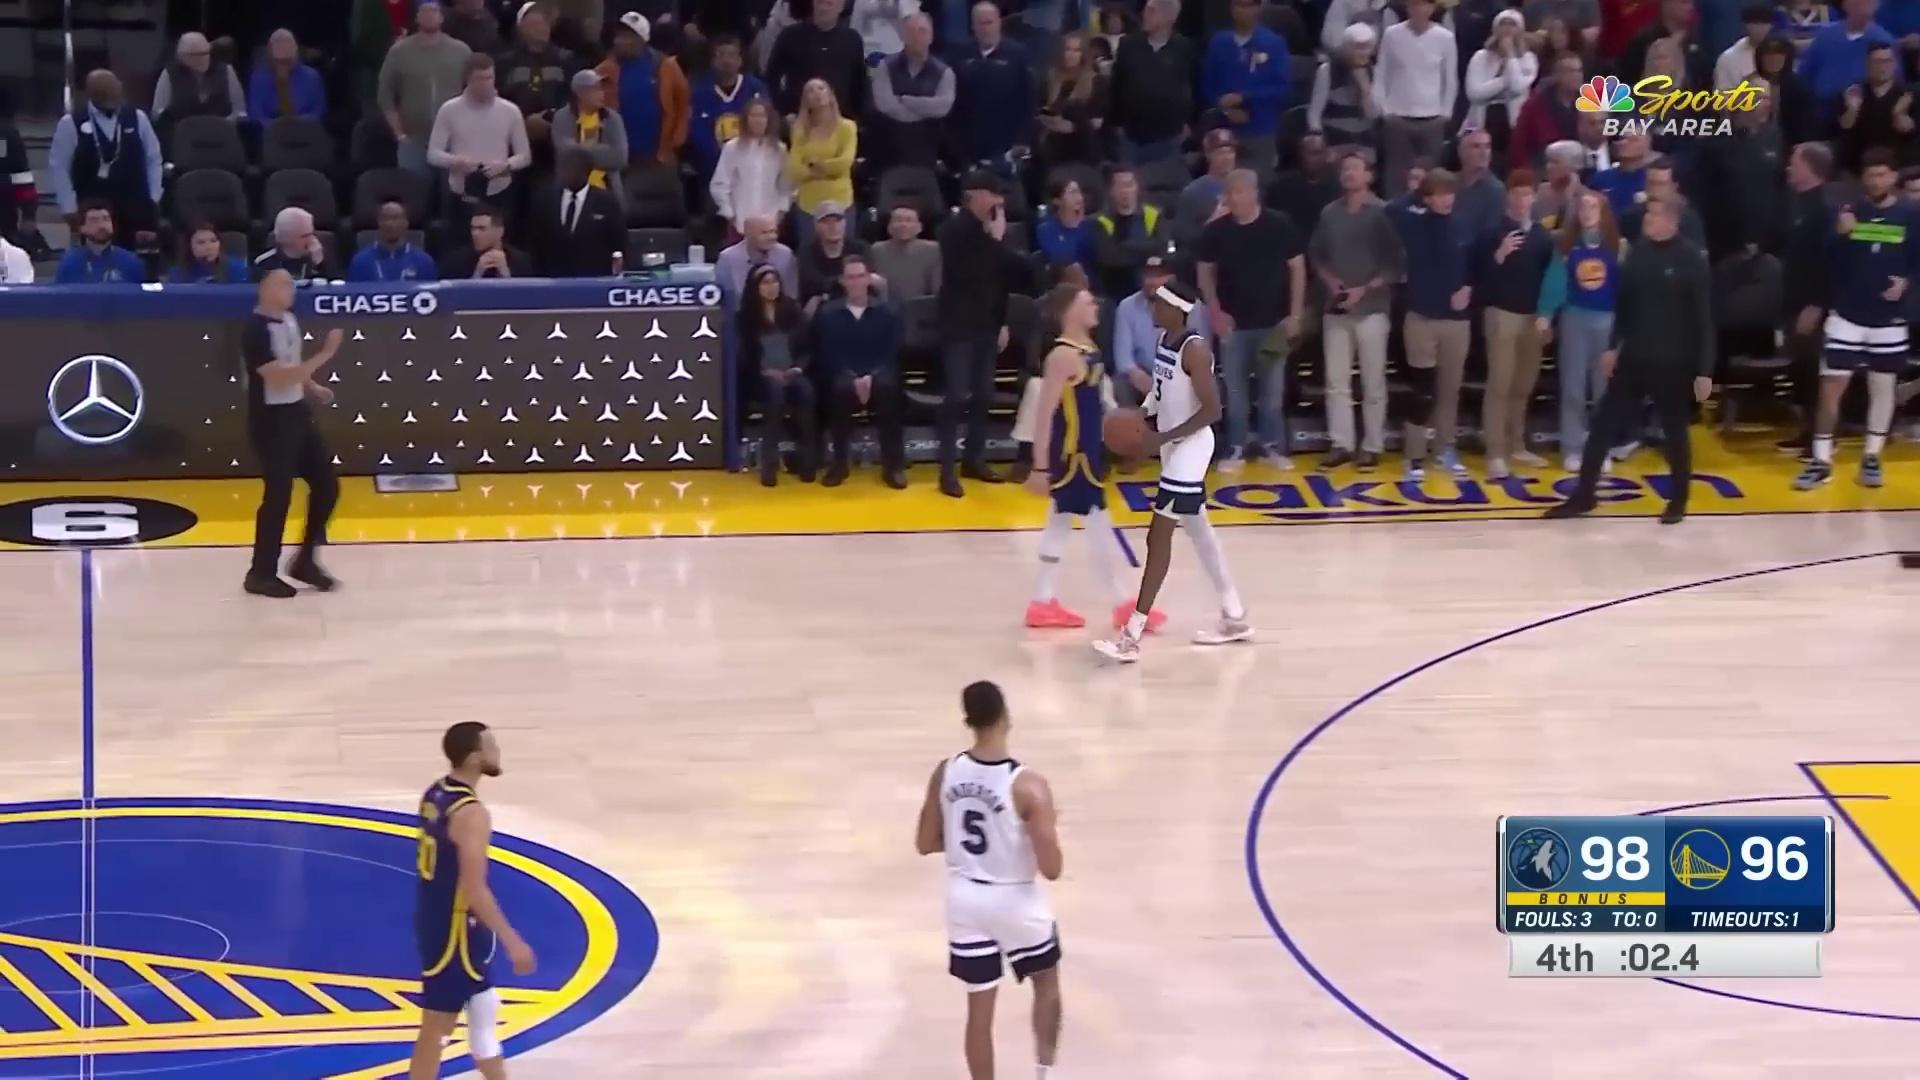Ball: (1103, 406, 1164, 459)
Player: (1088, 284, 1268, 669), (906, 681, 1068, 1080), (1033, 266, 1168, 638), (413, 713, 539, 1080)
